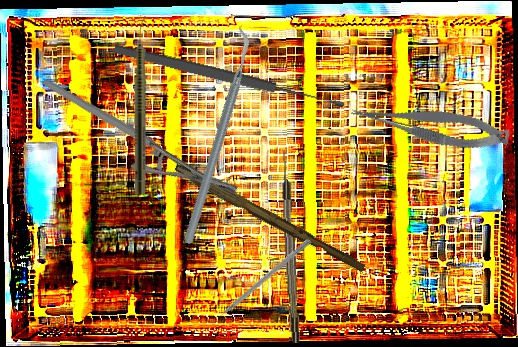Chopper: (110, 24, 322, 247)
Handpiece: (134, 16, 148, 194)
Hook Surgical: (279, 149, 301, 344)
Micro Scissor: (348, 85, 513, 163)
Needle Holder: (41, 29, 242, 243)
Pusher: (206, 237, 312, 328)
Scalpel Handle: (171, 163, 368, 274)
Surgical Spoon: (112, 41, 346, 113)
